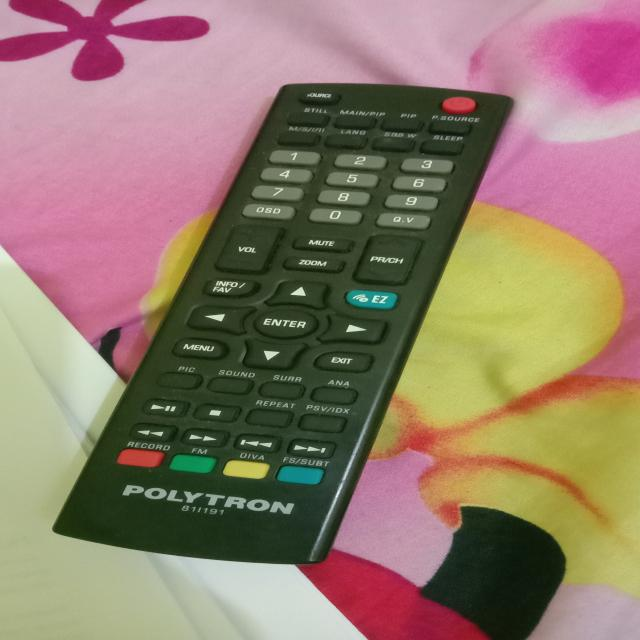remote: (49, 74, 528, 572)
